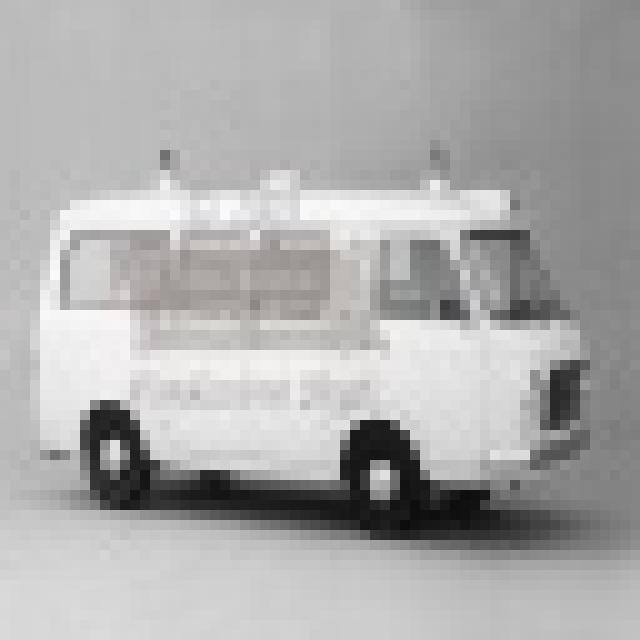Ambulance: (30, 140, 590, 520)
